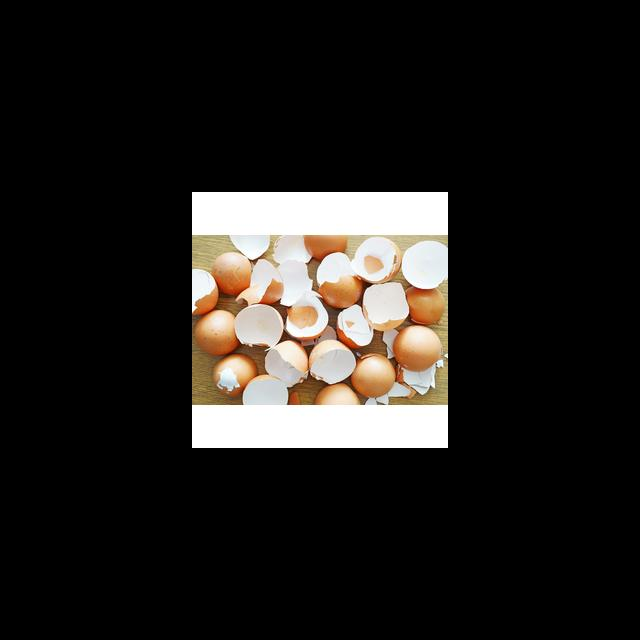food_waste: (382, 334, 443, 400), (275, 291, 334, 353), (227, 298, 288, 353), (272, 258, 330, 313), (234, 254, 290, 309), (263, 345, 325, 394), (205, 245, 260, 296), (326, 293, 375, 346), (392, 325, 448, 371), (402, 235, 445, 291), (211, 358, 268, 398), (402, 276, 447, 326), (274, 230, 329, 269), (352, 235, 396, 283), (320, 254, 357, 311), (192, 302, 238, 347), (226, 232, 290, 264), (351, 359, 397, 403), (306, 231, 359, 266), (192, 271, 228, 310)
